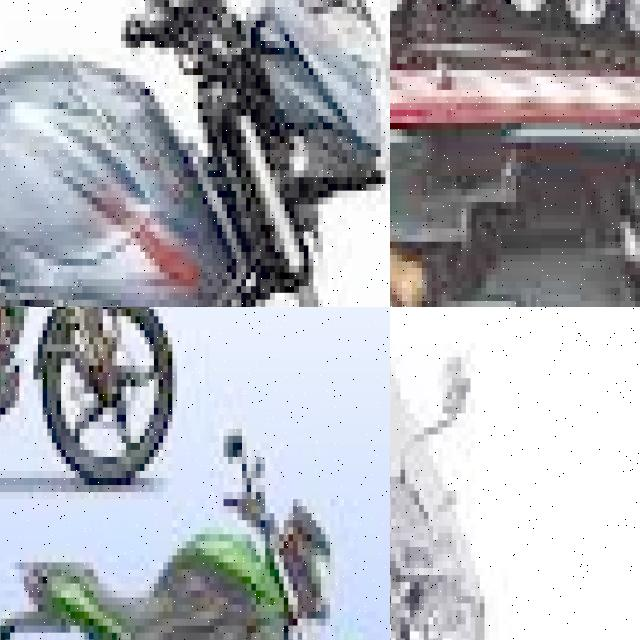bike: (0, 0, 390, 307), (390, 308, 640, 640), (0, 471, 390, 640), (0, 307, 181, 492)
car: (390, 37, 640, 307)
